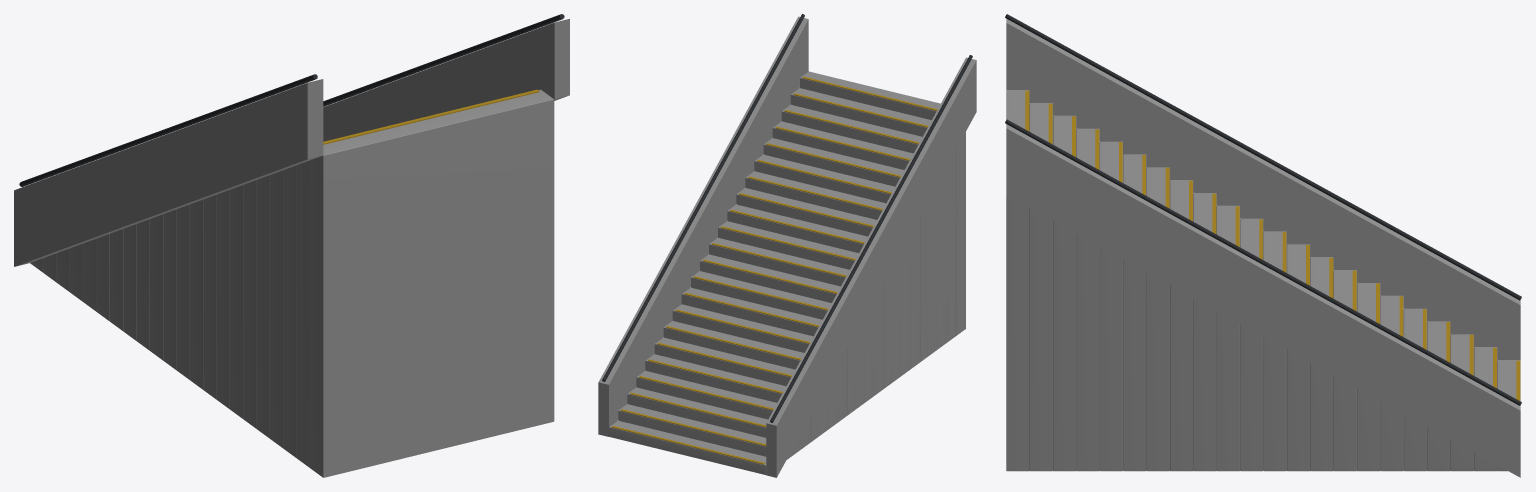
Rendered from Stairs_Concrete_3m.fbx.
The picture shows the model from 3 angles, left to right: view 1: azimuth 30°, elevation 25°; view 2: azimuth 150°, elevation 25°; view 3: azimuth 270°, elevation 25°; orthographic projection. The views are drawn at different scales.
Visible parts, largest first — view 1: Stairs_Concrete_3m_LOD0; view 2: Stairs_Concrete_3m_LOD0; view 3: Stairs_Concrete_3m_LOD0.
Part boxes in pixels (x1=…): Stairs_Concrete_3m_LOD0: x1=14, y1=14, x2=569, y2=477; Stairs_Concrete_3m_LOD0: x1=598, y1=14, x2=976, y2=477; Stairs_Concrete_3m_LOD0: x1=1005, y1=14, x2=1521, y2=477.
Size of what is drawn, in the model's own units: 3.4 by 5.03 by 6.63.
